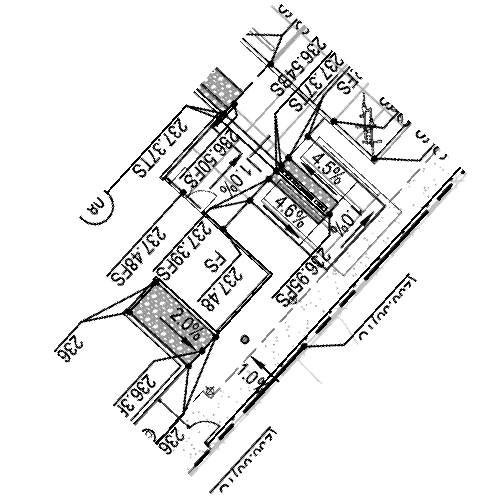door: (185, 415, 225, 450)
double door: (171, 157, 220, 218)
